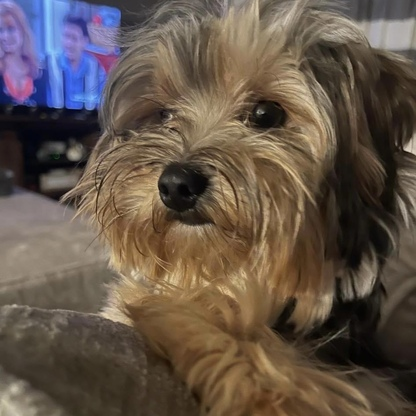yorkshire: (81, 3, 416, 415)
